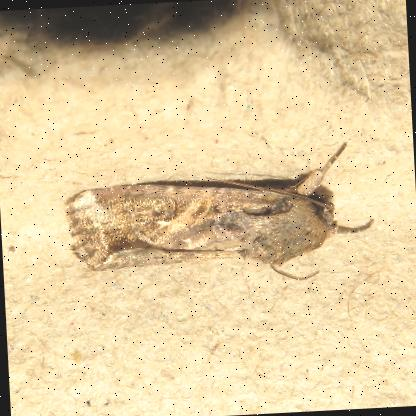Fall Armyworm Moth: (58, 138, 378, 296)
